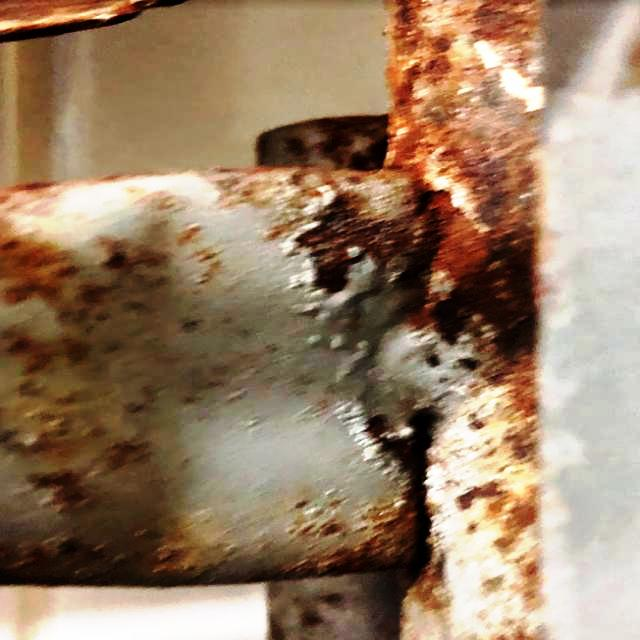Corrosion: (0, 0, 543, 640), (0, 0, 197, 45)
